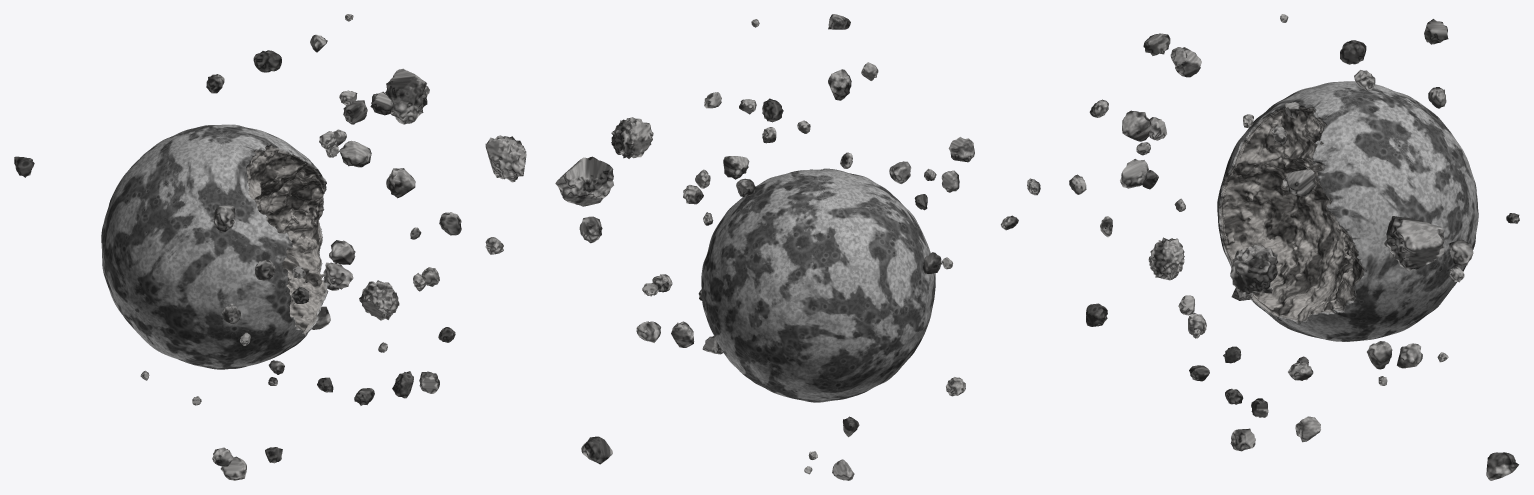
The model's file is moon.glb.
The picture shows the model from 3 angles, left to right: view 1: azimuth 30°, elevation 25°; view 2: azimuth 150°, elevation 25°; view 3: azimuth 270°, elevation 25°; orthographic projection. The views are drawn at different scales.
Parts seen in each view (by area): view 1: Moon_body, Fragment_1, Fragment_2, Fragment_3, Fragment_35, Fragment_28; view 2: Moon_body, Fragment_1, Fragment_2, Fragment_42, Fragment_28, Fragment_17; view 3: Moon_body, Fragment_1, Fragment_2, Fragment_3, Fragment_28, Fragment_35, Fragment_42, Fragment_21, Fragment_25, Fragment_43, Fragment_10, Fragment_11 (+2 smaller).
Part boxes in pixels (x1,y1,x2,y2): Moon_body: (101, 124, 328, 369); Fragment_1: (385, 68, 429, 124); Fragment_2: (485, 135, 526, 182); Fragment_3: (359, 280, 399, 320); Fragment_35: (339, 140, 371, 167); Fragment_28: (386, 168, 415, 198); Moon_body: (701, 168, 935, 402); Fragment_1: (555, 156, 613, 206); Fragment_2: (611, 117, 653, 158); Fragment_42: (581, 436, 612, 464); Fragment_28: (828, 69, 851, 100); Fragment_17: (948, 137, 974, 162); Moon_body: (1217, 81, 1478, 341); Fragment_1: (1383, 216, 1444, 271); Fragment_2: (1230, 245, 1277, 294); Fragment_3: (1148, 237, 1184, 280); Fragment_28: (1122, 110, 1152, 141); Fragment_35: (1283, 169, 1315, 196); Fragment_42: (1486, 452, 1518, 480); Fragment_21: (1120, 159, 1148, 188); Fragment_25: (1367, 341, 1392, 369); Fragment_43: (1340, 40, 1366, 64); Fragment_10: (1397, 343, 1422, 368); Fragment_11: (1449, 239, 1473, 267).
Size of the model in its own units: 4.03 by 4.06 by 3.47.
Materials: 1 (1 with a texture image).
